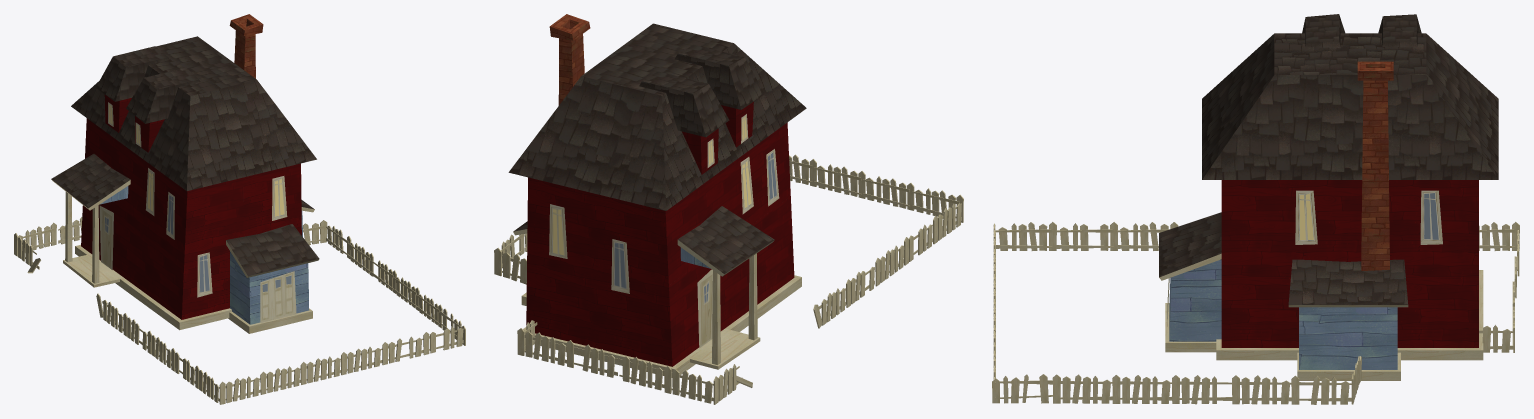
Rendered from NPCHouse.fbx.
The picture shows the model from 3 angles, left to right: view 1: azimuth 30°, elevation 25°; view 2: azimuth 150°, elevation 25°; view 3: azimuth 270°, elevation 25°; orthographic projection. The views are drawn at different scales.
Visible parts, largest first — view 1: Sketchfab Model; view 2: Sketchfab Model; view 3: Sketchfab Model.
Boxes of the visible parts, x1,y1,x2,y2 form: Sketchfab Model: (14, 14, 465, 404); Sketchfab Model: (494, 14, 963, 404); Sketchfab Model: (992, 14, 1519, 404).
Size of the model in its own units: 5724 by 4962 by 7981.
Materials: 1 (1 with a texture image).
